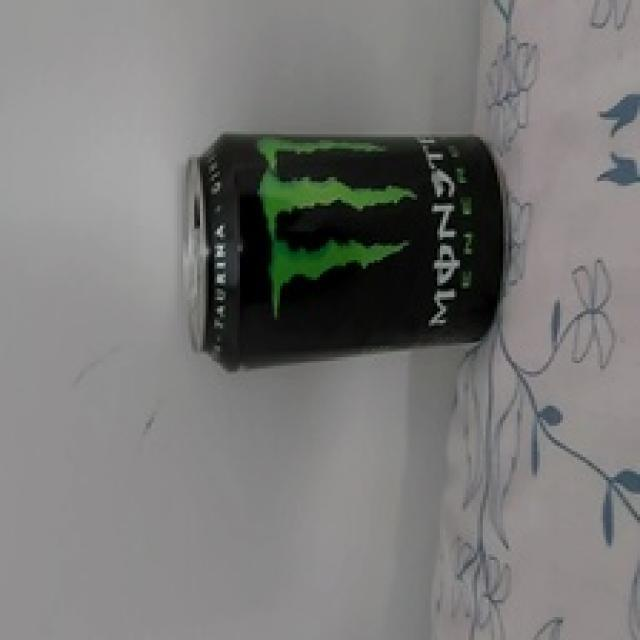recyclable: (176, 125, 510, 373)
